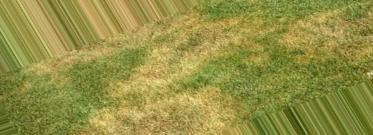patch: (130, 71, 224, 133), (300, 16, 367, 56), (156, 26, 212, 71), (97, 106, 176, 135)
